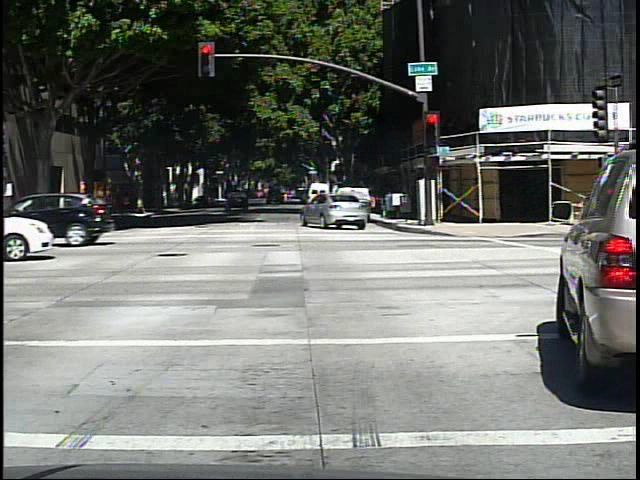person: (98, 186, 112, 218)
